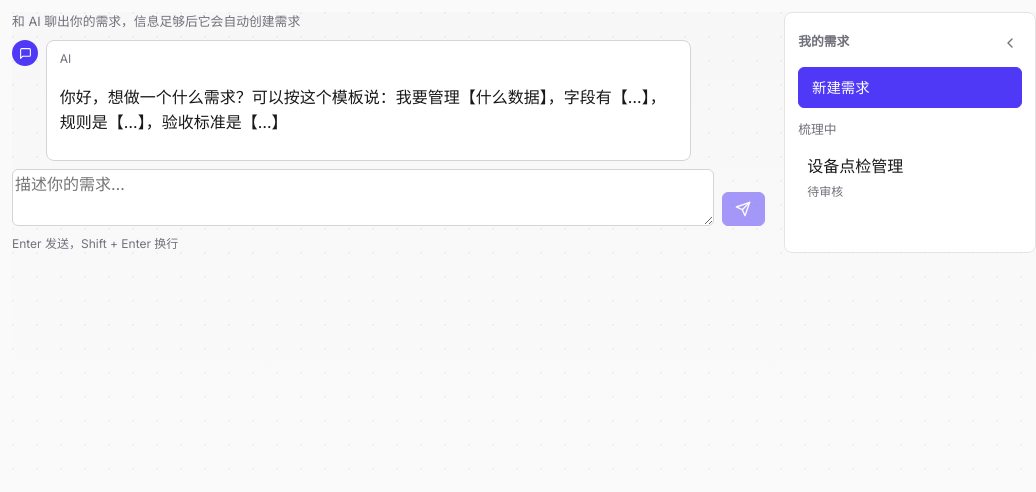
Scenario: IssueWorkshopView 详情分区锚点（P32 分区重排） › 详情三分区（头部/澄清/讨论）存在
Click the button with test id "issue-entry-i1": x=910, y=177 [798,145,1022,210]
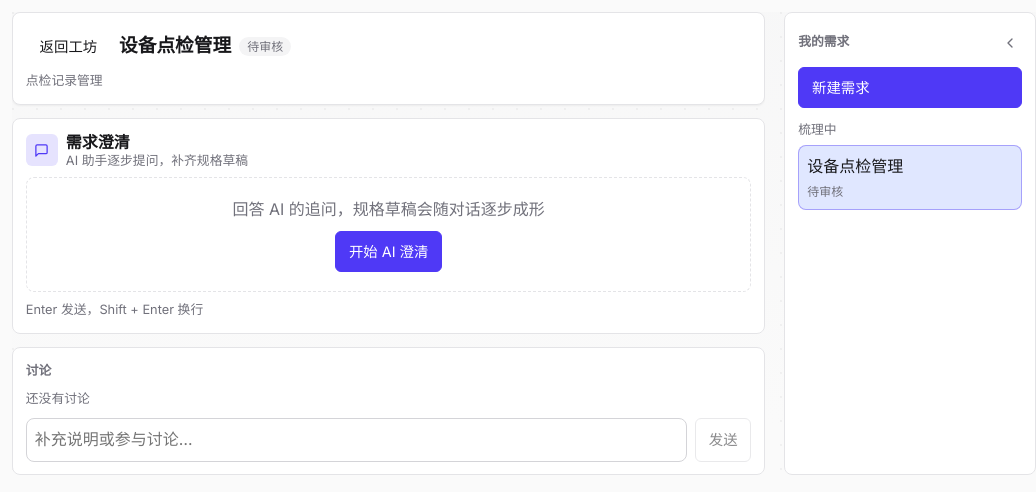
Expected: the element with test id "workshop-issue-detail" is shown
Expected: the element with test id "issue-detail-clarify" is shown, [12,118,765,334]
Expected: the element with test id "issue-detail-discussion" is shown, [12,347,765,475]
